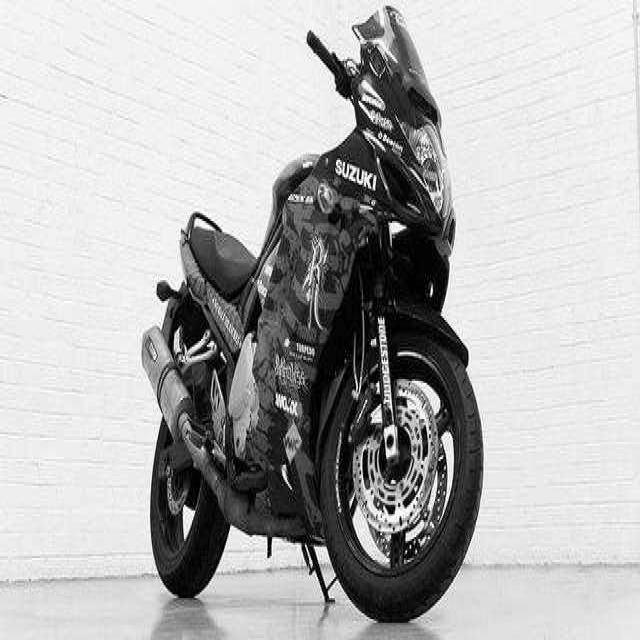Motorcycle: (142, 7, 482, 622)
